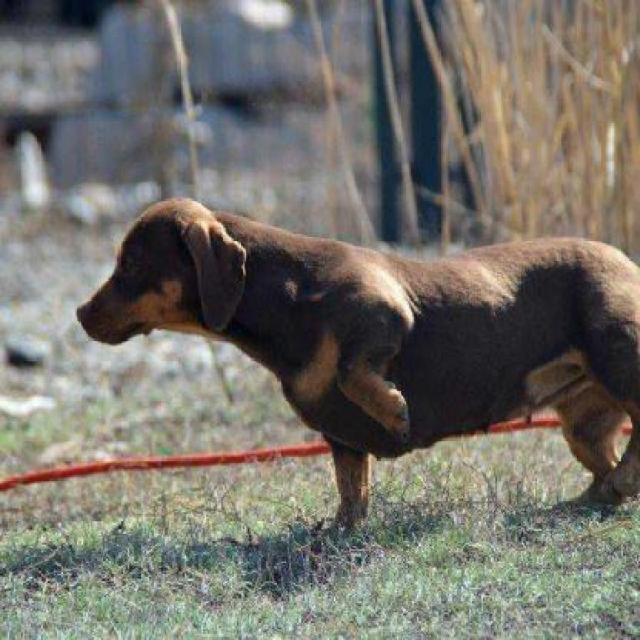Dog: (77, 192, 638, 532)
